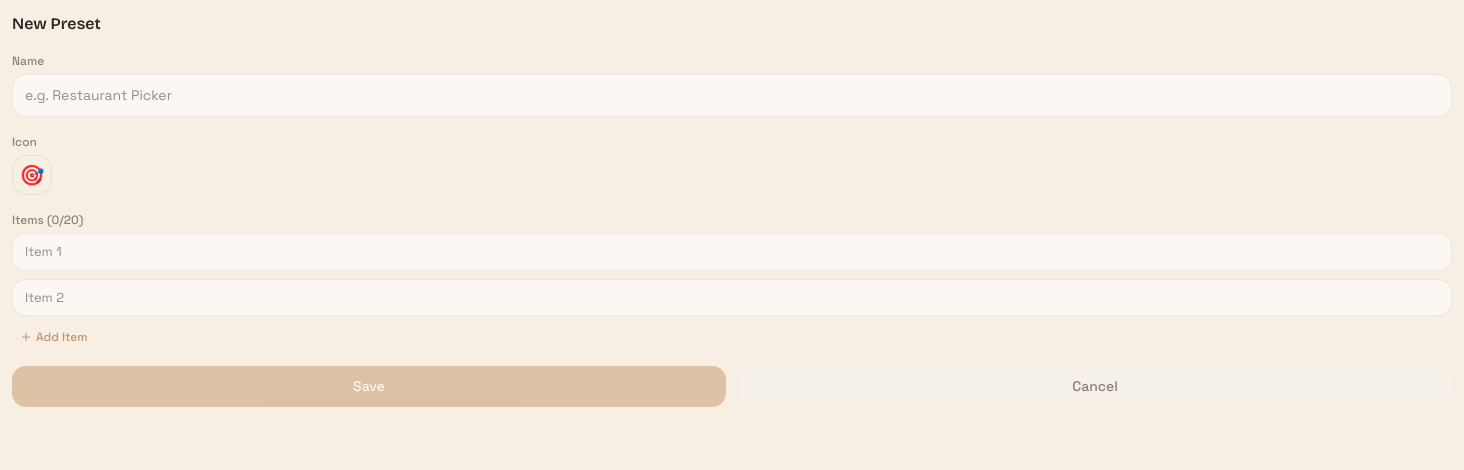
Scenario: CreatePresetForm › adds a new item when add button is clicked
What coordinates should you click on to do the following:
click the button with test id "add-item-btn"
I would click on:
 (54, 337)
Its box is [12, 324, 96, 350].
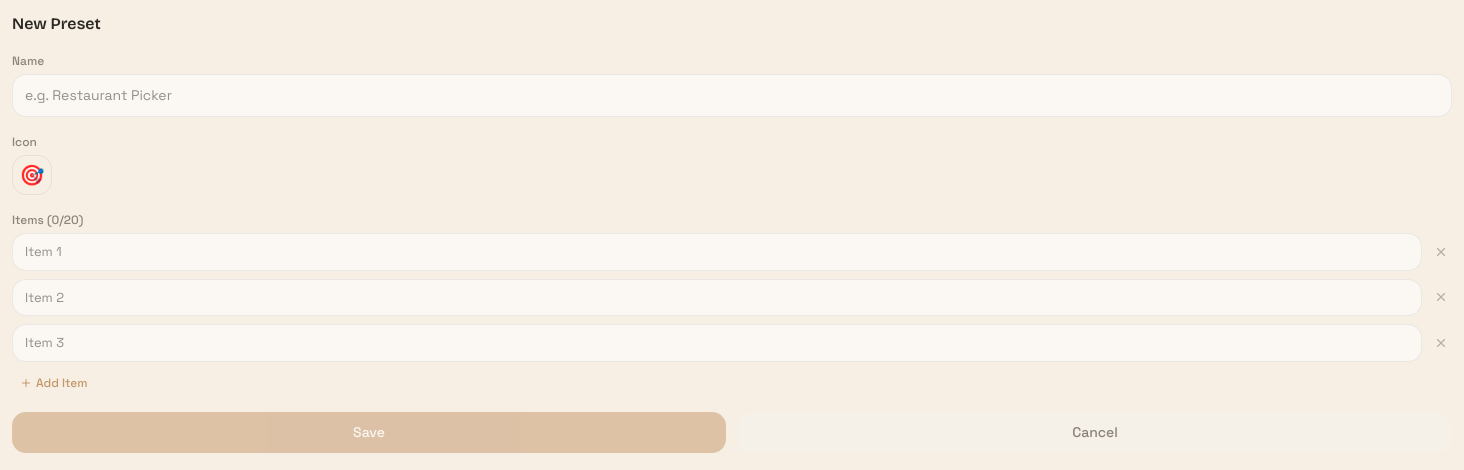
expect the field with test id "item-input-2" is shown: met, box [12, 324, 1422, 362]
